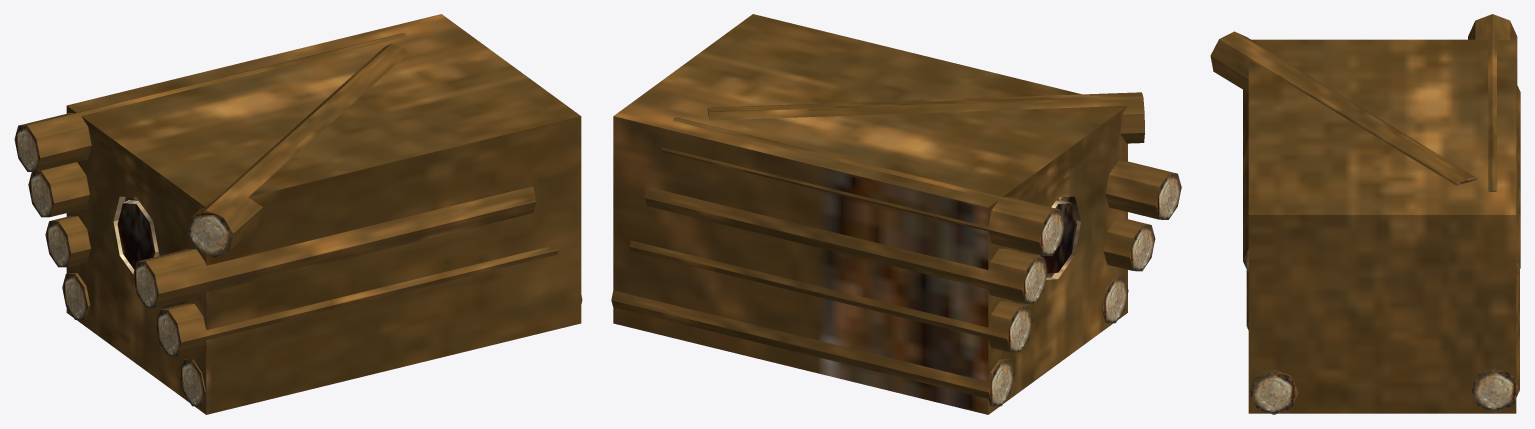
File: ship.obj
3 renders of one model, left to right at view 1: azimuth 30°, elevation 25°; view 2: azimuth 150°, elevation 25°; view 3: azimuth 270°, elevation 25°, orthographic. The views are drawn at different scales.
Visible parts, largest first — view 1: Cube.001; view 2: Cube.001; view 3: Cube.001.
Boxes of the visible parts, x1=… form: Cube.001: x1=14, y1=14, x2=582, y2=414; Cube.001: x1=611, y1=14, x2=1181, y2=414; Cube.001: x1=1210, y1=14, x2=1520, y2=414.
Bounding box in the file's own units: 7.41 × 3.52 × 4.85.
